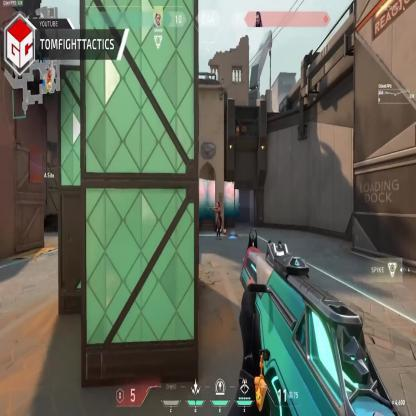enemy: (212, 201, 222, 239)
enemy_head: (216, 202, 220, 209)
